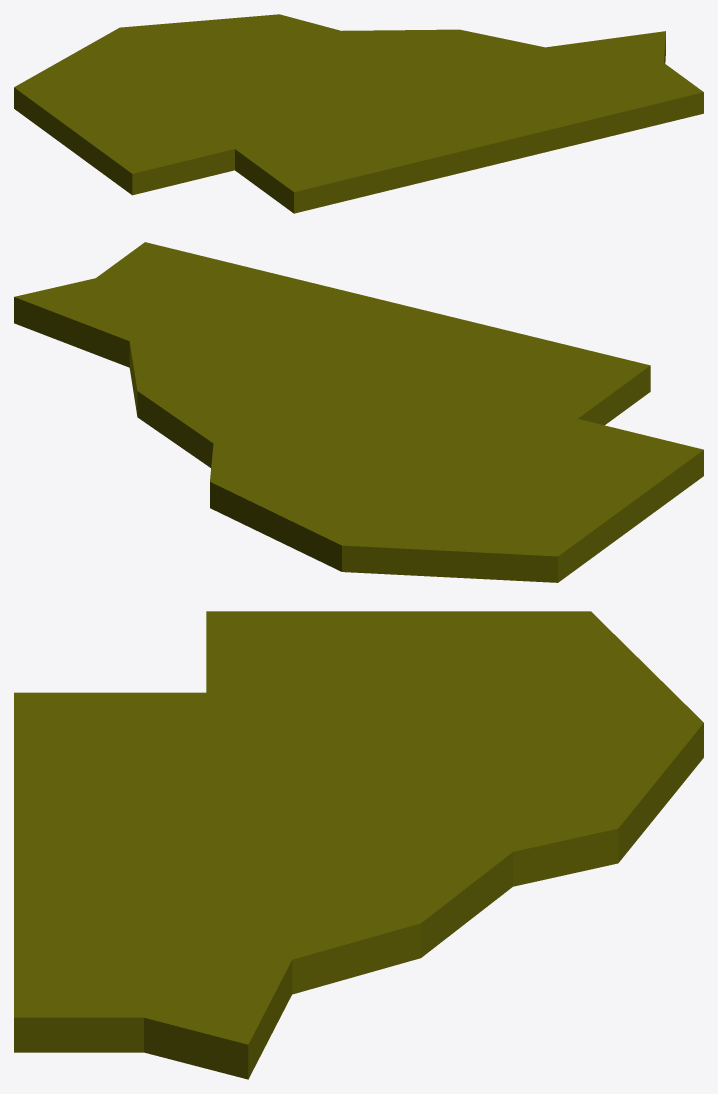
Rendered from x_0_boloto_30_1_rmstrd.fbx.
3 views of the same model, one above another, from view 1: azimuth 30°, elevation 25°; view 2: azimuth 150°, elevation 25°; view 3: azimuth 270°, elevation 25° (orthographic). The views are drawn at different scales.
Parts seen in each view (by area): view 1: x_0_boloto_30_1_rmstrd1; view 2: x_0_boloto_30_1_rmstrd1; view 3: x_0_boloto_30_1_rmstrd1.
Boxes of the visible parts, x1,y1,x2,y2 form: x_0_boloto_30_1_rmstrd1: (14, 14, 703, 213); x_0_boloto_30_1_rmstrd1: (14, 242, 703, 582); x_0_boloto_30_1_rmstrd1: (14, 611, 703, 1079).
Size of the model in its own units: 5.33 by 0.2 by 3.59.
